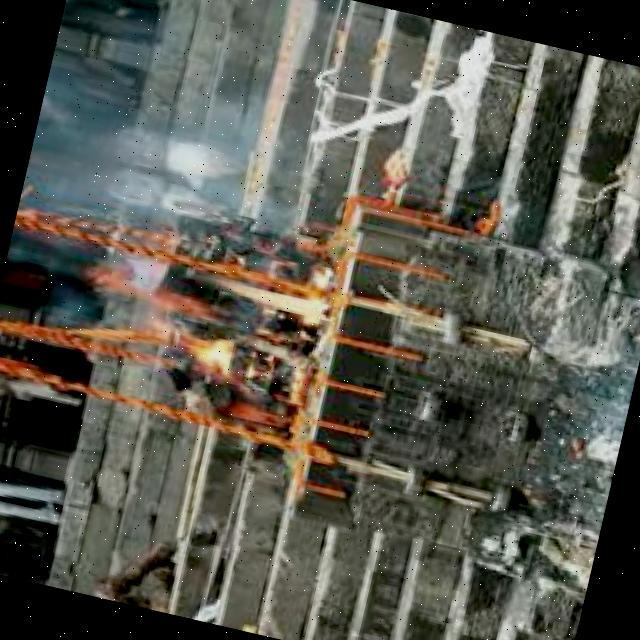fire: (71, 235, 343, 396)
